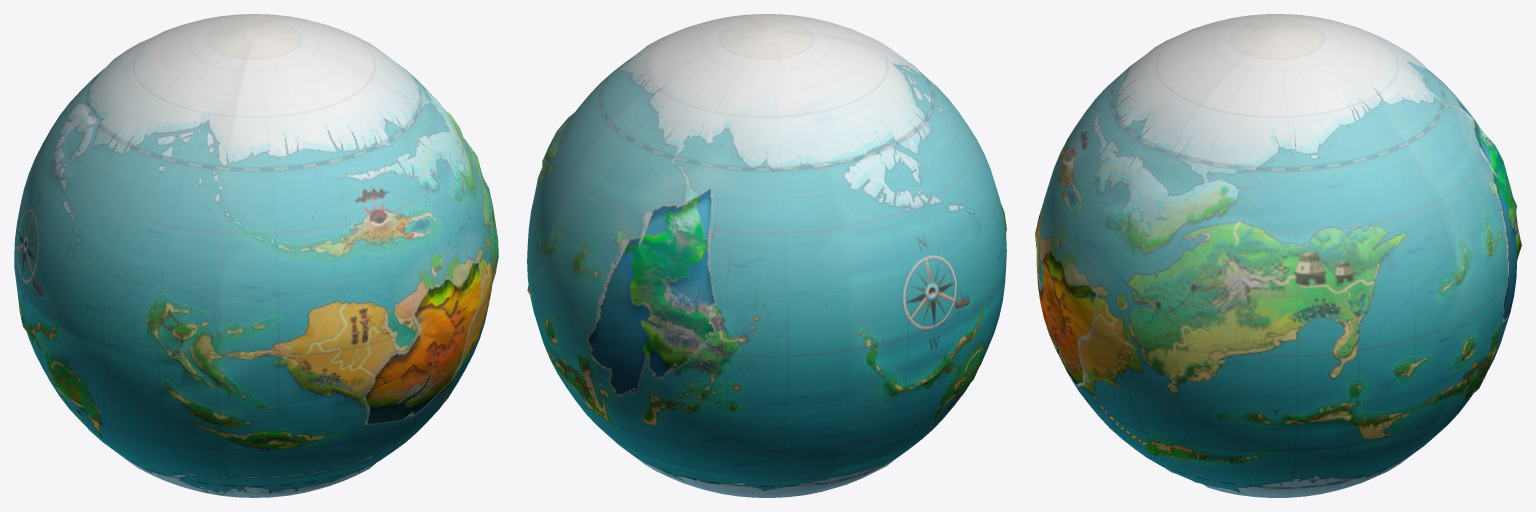
File: Globe.glb
3 views of the same model, side by side, from view 1: azimuth 30°, elevation 25°; view 2: azimuth 150°, elevation 25°; view 3: azimuth 270°, elevation 25° (orthographic).
Parts seen in each view (by area): view 1: node_id62; view 2: node_id62; view 3: node_id62.
Boxes of the visible parts, <box> form: node_id62: <box>14,14,498,497</box>; node_id62: <box>527,14,1006,497</box>; node_id62: <box>1035,14,1521,497</box>.
Bounding box in the file's own units: 0.3963 × 0.4093 × 0.401.
1 material, 1 textured.
